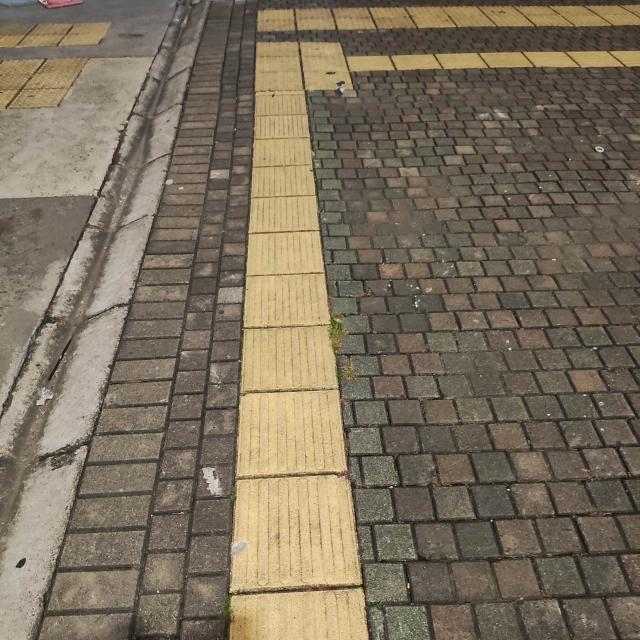kanan: (236, 43, 431, 106)
